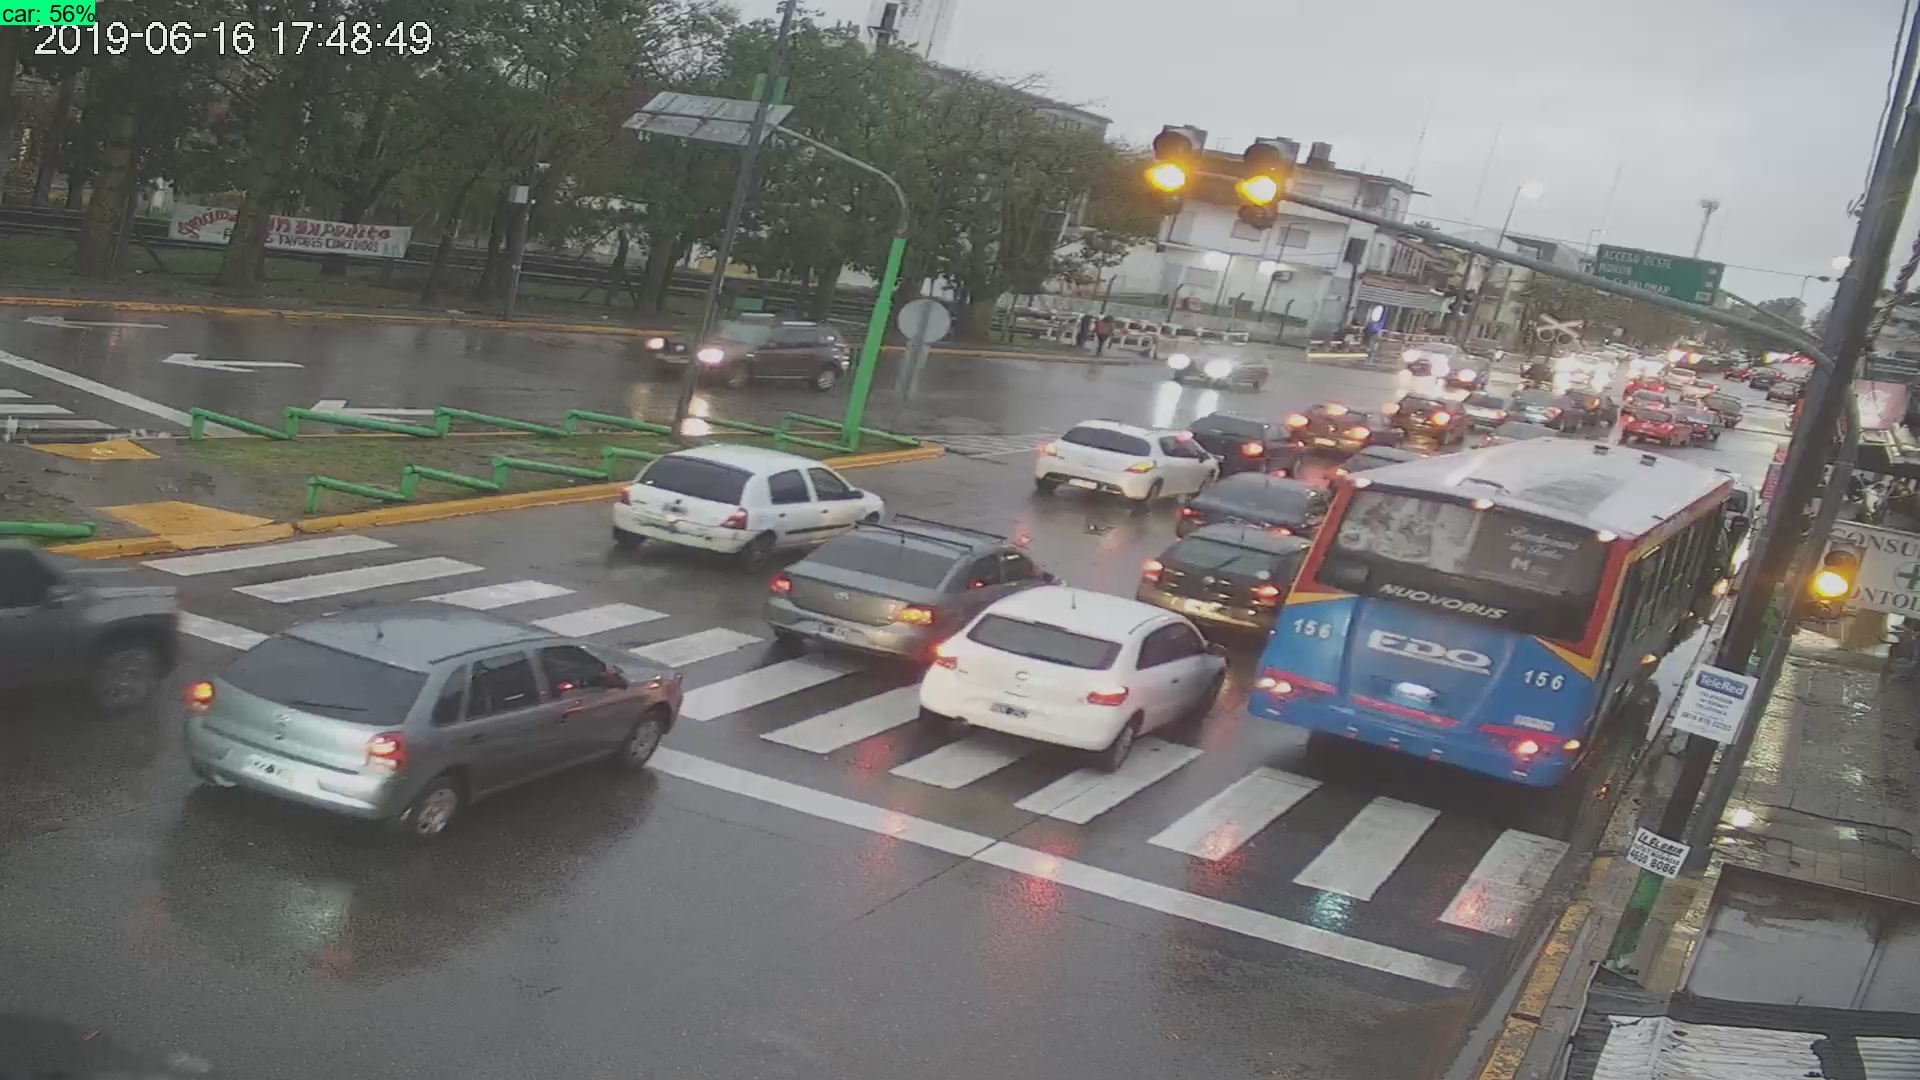bus: (1247, 438, 1731, 789)
car: (183, 595, 684, 837), (926, 592, 1229, 773), (765, 510, 1071, 659), (1, 534, 196, 731), (615, 448, 880, 560), (647, 306, 857, 404), (1035, 418, 1216, 518), (1170, 332, 1273, 392)
